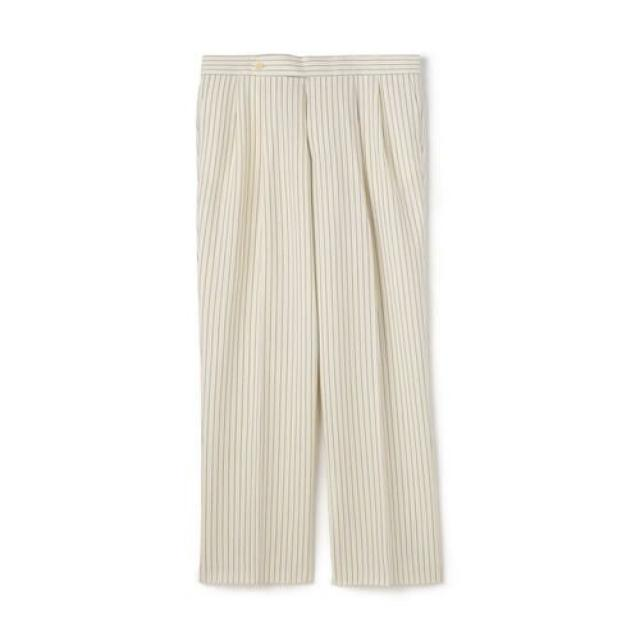long-pants: (196, 53, 445, 593)
